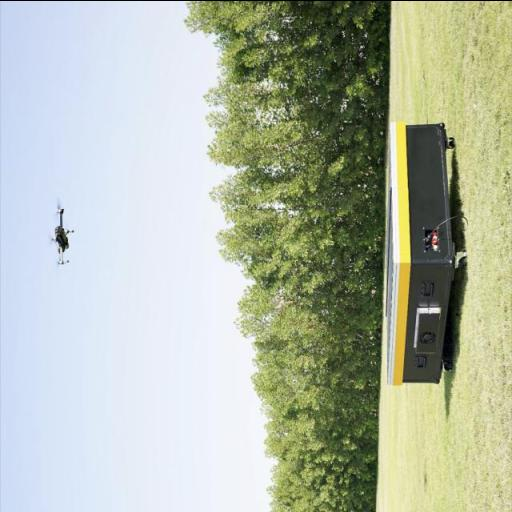uav: (48, 204, 76, 267)
